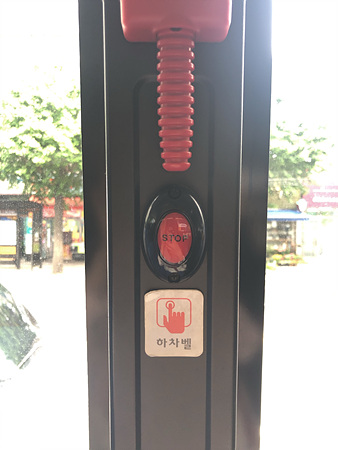bell: (142, 186, 207, 282)
